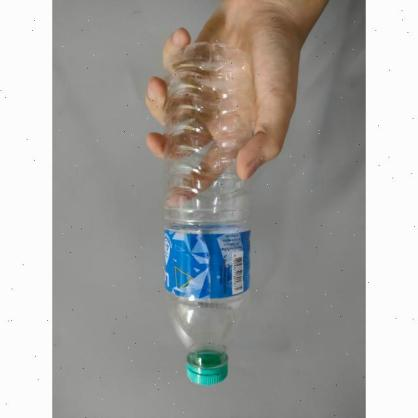bottle: (162, 43, 253, 387)
cap: (186, 355, 227, 386)
label: (165, 228, 248, 296)
